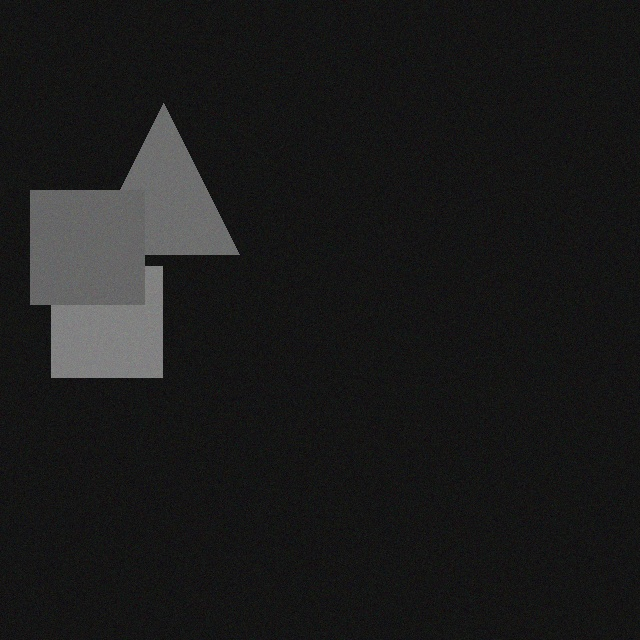square: (18, 204, 132, 318), (39, 280, 150, 391)
triangle: (76, 117, 227, 268)
